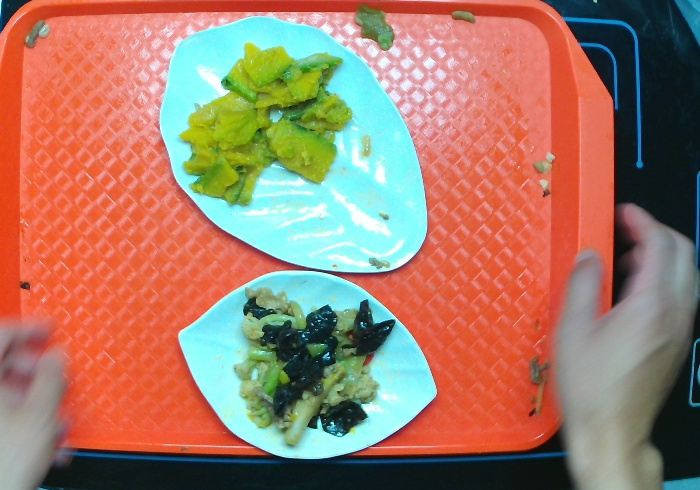RJxy-Bai_Ye_Pan: (155, 8, 436, 280)
RJxy-Da_Du_Pan: (172, 264, 444, 464)
